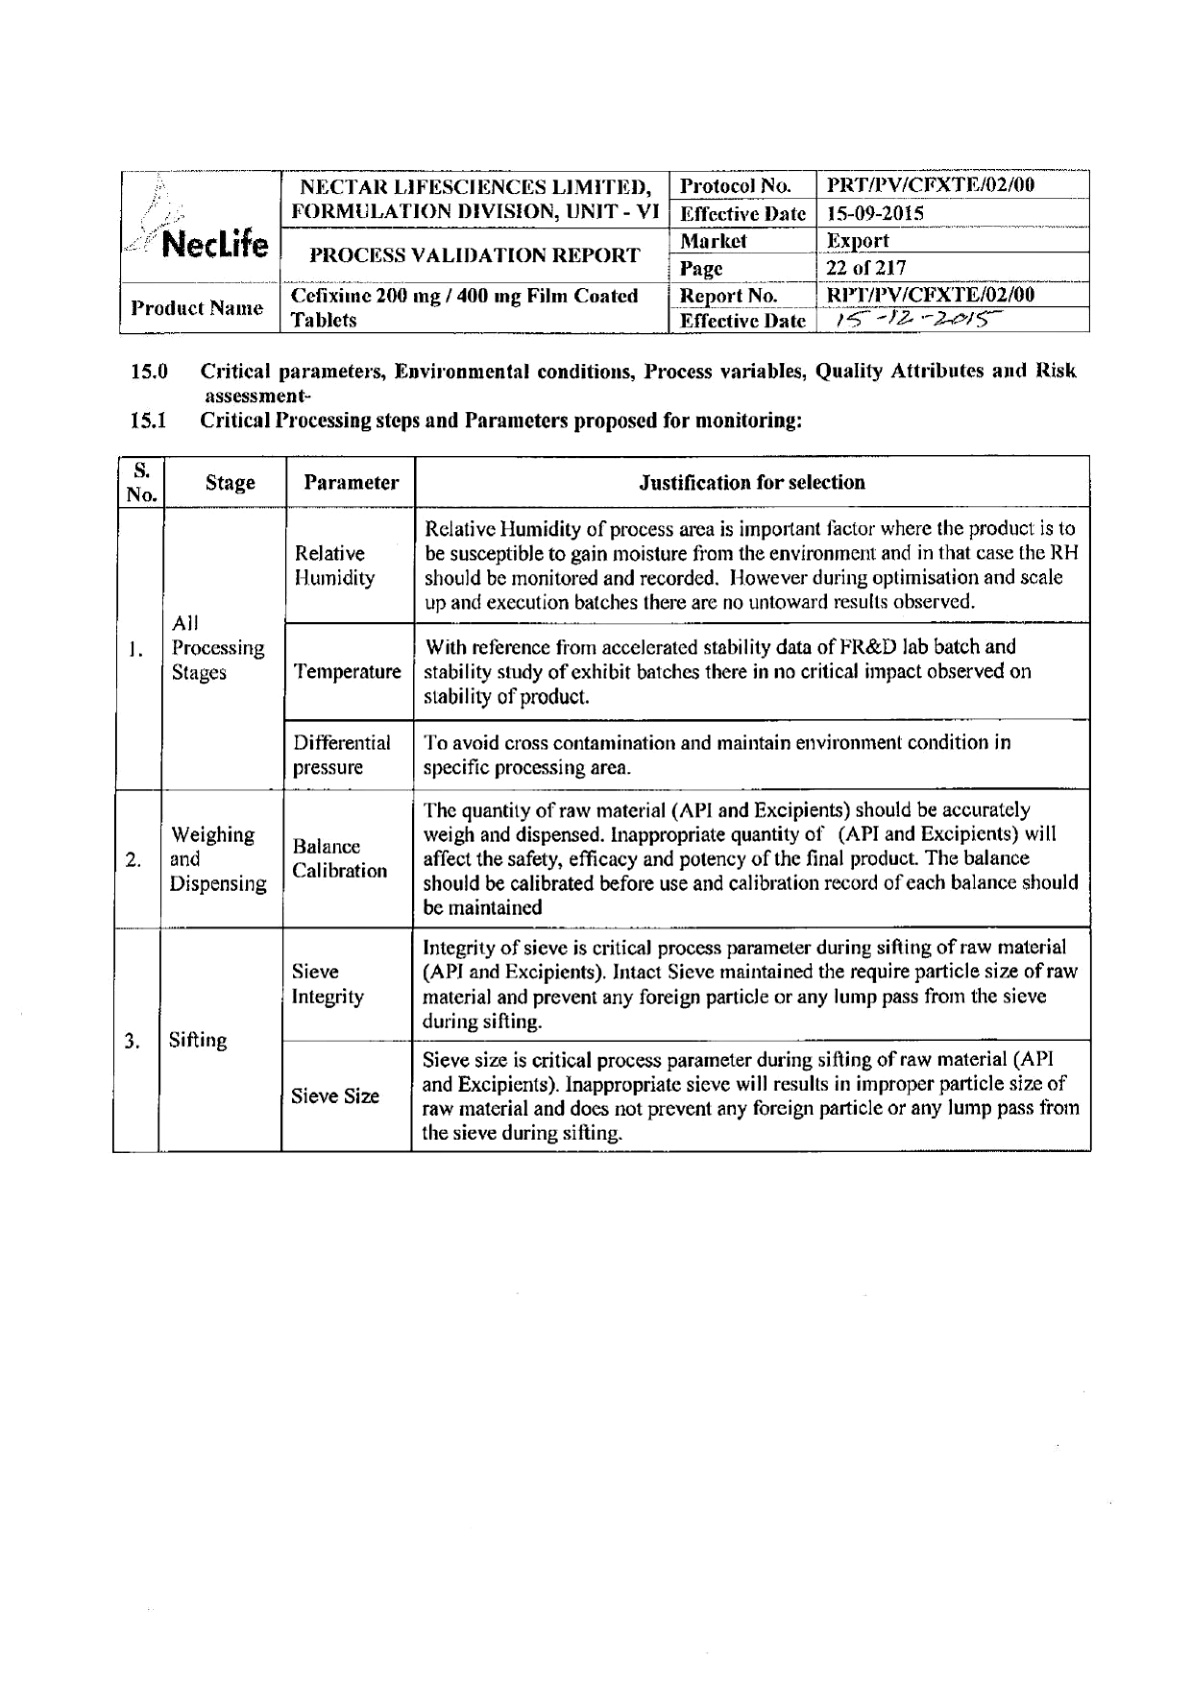merged_cells: (108, 453, 1091, 1155), (117, 168, 1091, 335)
